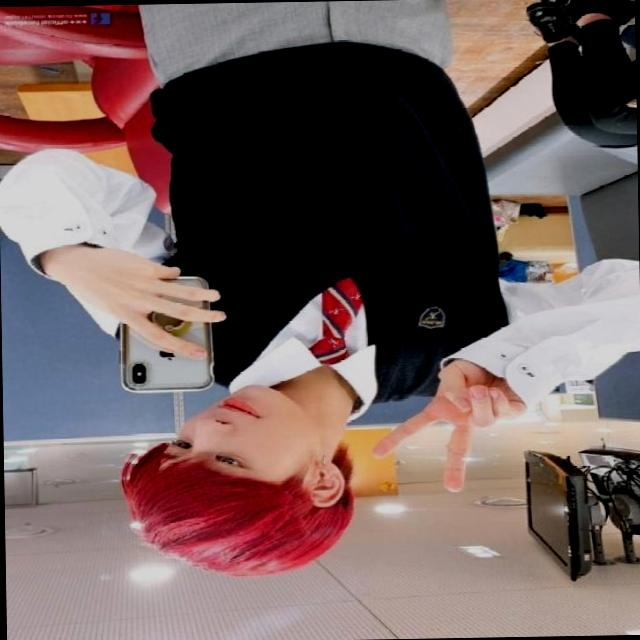lens_back: (126, 360, 148, 386)
phone: (117, 272, 212, 392)
